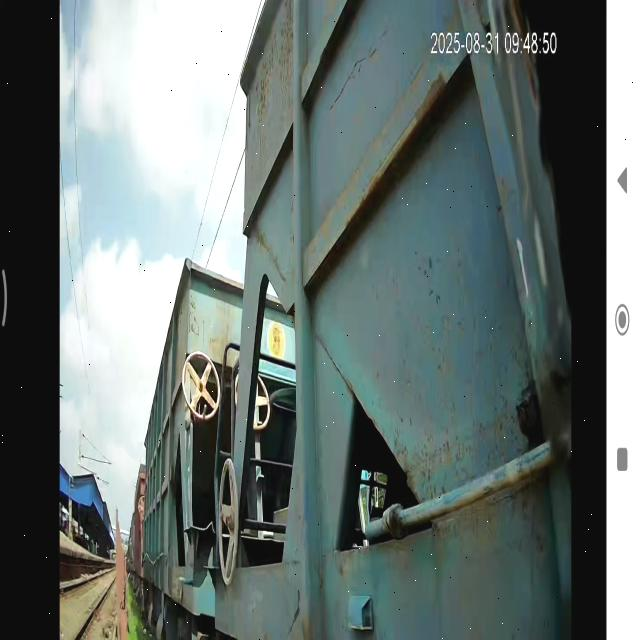joint: (152, 0, 321, 640)
